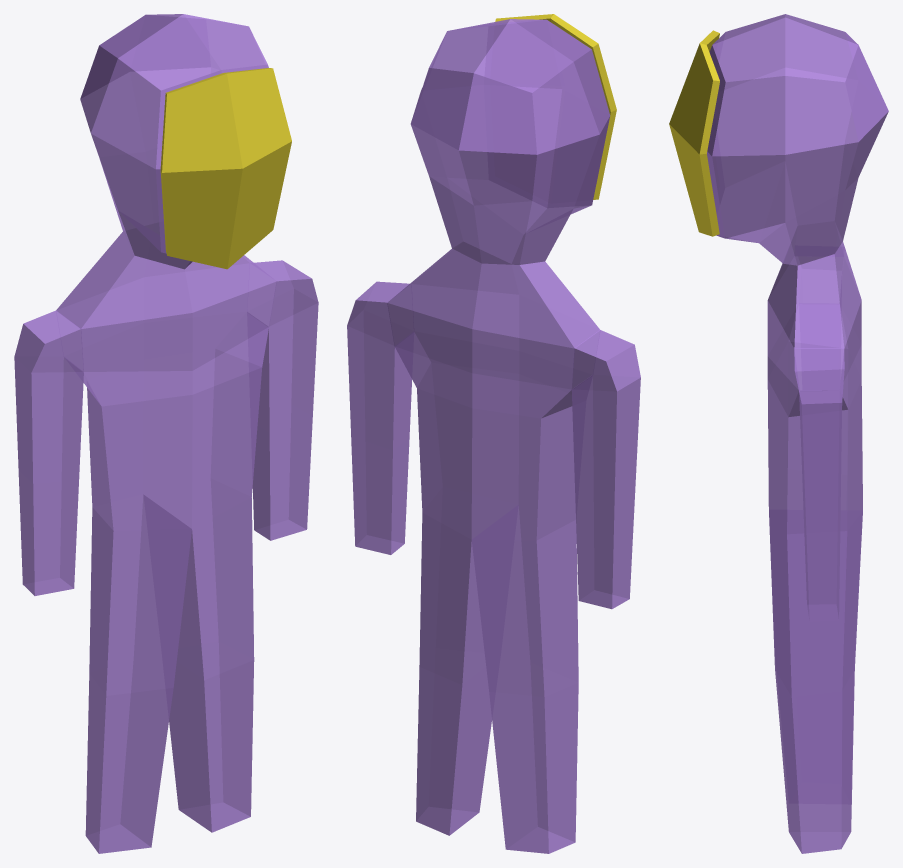
File: Low_Poly_Character.fbx
The picture shows the model from 3 angles, left to right: view 1: azimuth 30°, elevation 25°; view 2: azimuth 150°, elevation 25°; view 3: azimuth 270°, elevation 25°; orthographic projection. The views are drawn at different scales.
Visible parts, largest first — view 1: Cube, Cube.001; view 2: Cube, Cube.001; view 3: Cube, Cube.001.
Boxes of the visible parts, x1,y1,x2,y2 form: Cube: [14, 14, 318, 853]; Cube.001: [160, 68, 291, 269]; Cube: [347, 19, 640, 853]; Cube.001: [495, 14, 616, 199]; Cube: [707, 14, 888, 853]; Cube.001: [669, 30, 719, 236].
Size of the model in its own units: 537 by 1479 by 368.
